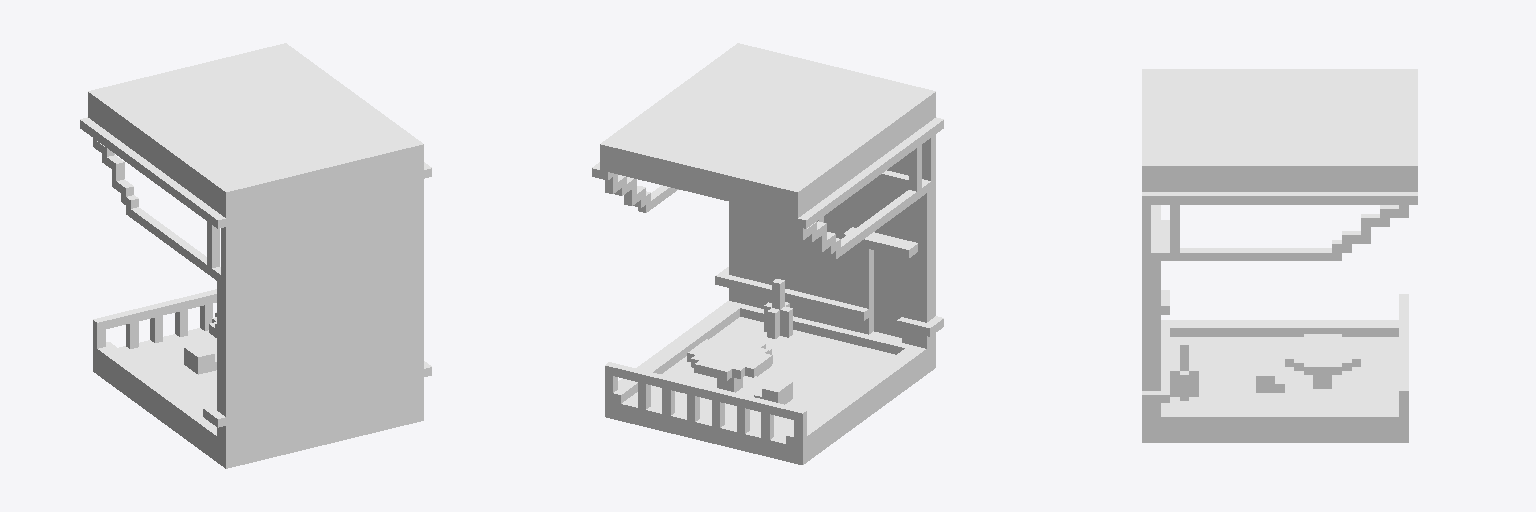
Rendered from tile_3_right_90.obj.
3 renders of one model, left to right at view 1: azimuth 30°, elevation 25°; view 2: azimuth 150°, elevation 25°; view 3: azimuth 270°, elevation 25°, orthographic.
Parts seen in each view (by area): view 1: object 1; view 2: object 1; view 3: object 1.
Boxes of the visible parts, x1,y1,x2,y2 form: object 1: [80, 43, 431, 468]; object 1: [592, 43, 943, 464]; object 1: [1142, 69, 1417, 442].
Bounding box in the file's own units: 2.6 × 3.2 × 2.9.